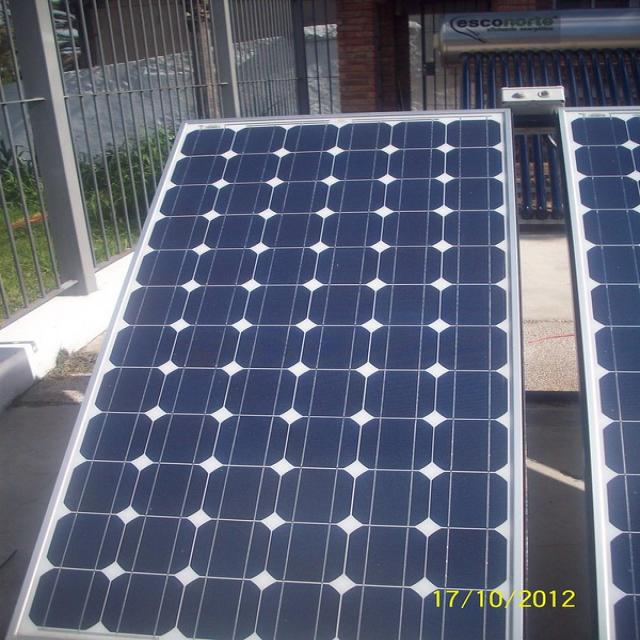no faulty: (23, 117, 516, 634)
